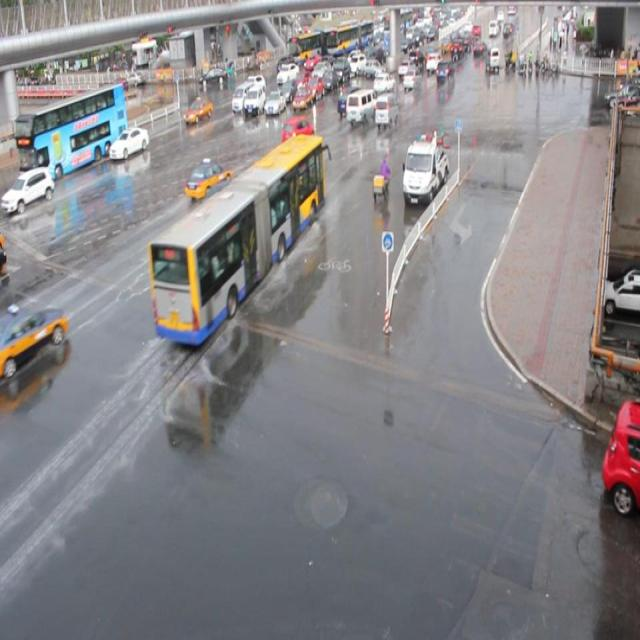bus: (402, 137, 448, 206)
car: (1, 303, 66, 367), (9, 166, 55, 212), (201, 178, 245, 224), (185, 157, 232, 199), (254, 143, 292, 186), (109, 125, 149, 158), (280, 117, 314, 152), (336, 84, 365, 115), (182, 96, 212, 123), (264, 92, 286, 117), (372, 72, 395, 95), (292, 87, 312, 113), (244, 73, 266, 96), (305, 76, 324, 102), (279, 80, 298, 103), (292, 72, 311, 93)
truck: (345, 87, 378, 125), (374, 92, 398, 128), (232, 82, 258, 111), (246, 85, 268, 116)
van: (147, 133, 324, 347), (14, 83, 130, 182)
